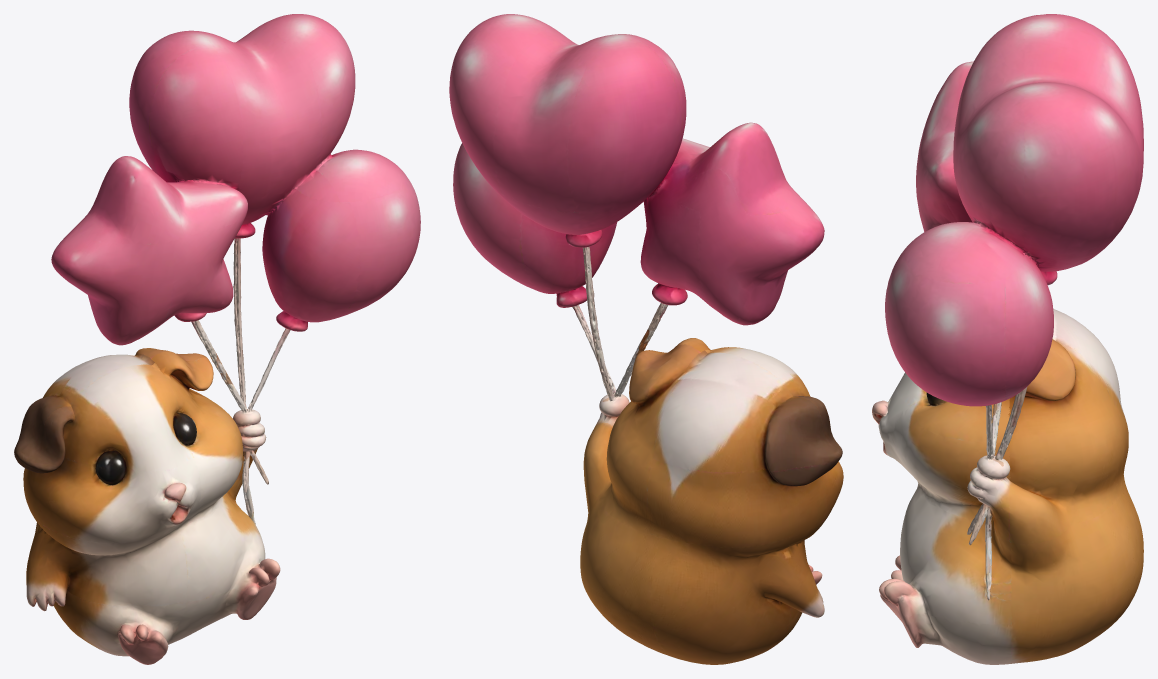
File: model-mobile-v001.glb
3 renders of one model, left to right at view 1: azimuth 30°, elevation 25°; view 2: azimuth 150°, elevation 25°; view 3: azimuth 270°, elevation 25°, orthographic. The views are drawn at different scales.
Parts seen in each view (by area): view 1: tmplvn50e9xobj; view 2: tmplvn50e9xobj; view 3: tmplvn50e9xobj.
Part boxes in pixels (left/top/right/bottom): tmplvn50e9xobj: left=14, top=14, right=420, bottom=664; tmplvn50e9xobj: left=449, top=14, right=843, bottom=664; tmplvn50e9xobj: left=872, top=14, right=1143, bottom=664.
Bounding box in the file's own units: 0.6825 × 0.9999 × 0.3688.
Materials: 1 (1 with a texture image).
